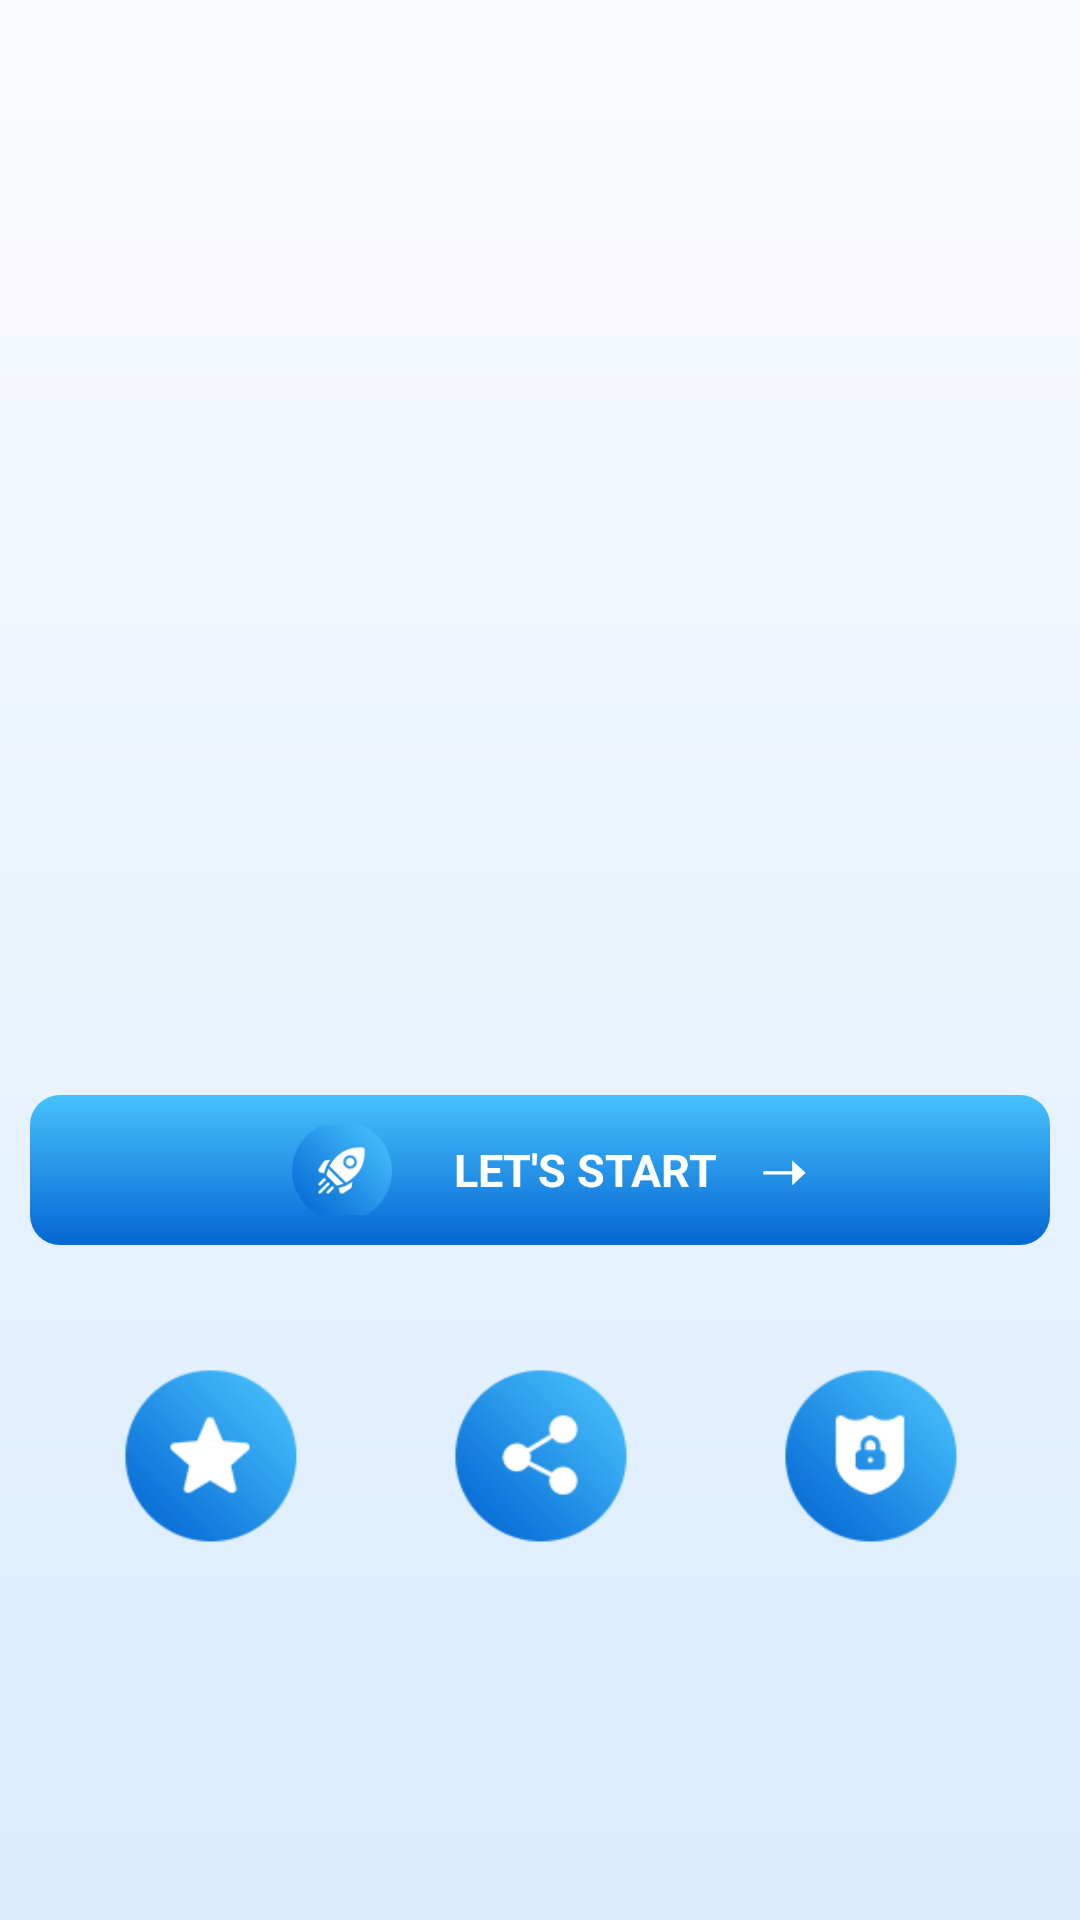

Where to tap for icons on this 1080 × 1920 app screen, as [x,y]:
privacy: [871,1456]
rate: [211,1456]
share: [541,1456]
